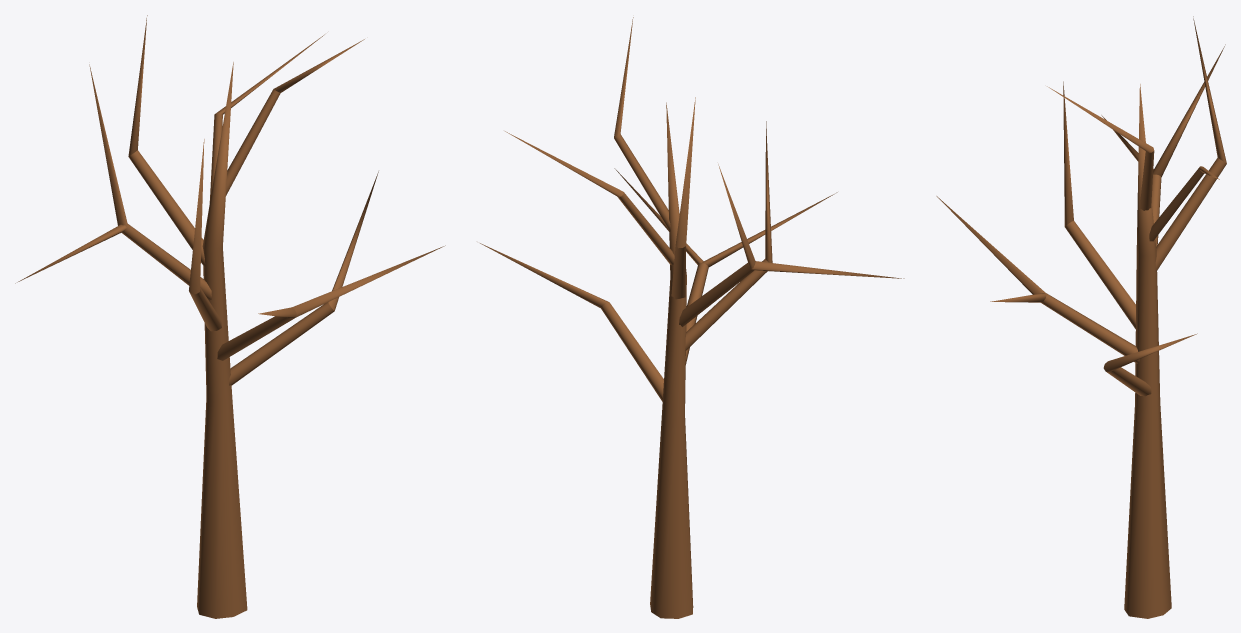
The model's file is Tree.fbx.
The picture shows the model from 3 angles, left to right: view 1: azimuth 30°, elevation 25°; view 2: azimuth 150°, elevation 25°; view 3: azimuth 270°, elevation 25°; orthographic projection. The views are drawn at different scales.
Parts seen in each view (by area): view 1: Tree; view 2: Tree; view 3: Tree.
Part boxes in pixels (box(x1,y1,x2,y2)): Tree: box(15, 15, 445, 618); Tree: box(480, 17, 904, 618); Tree: box(936, 16, 1226, 618).
Bounding box in the file's own units: 11.11 × 15.03 × 6.98.
Materials: 1 (1 with a texture image).
